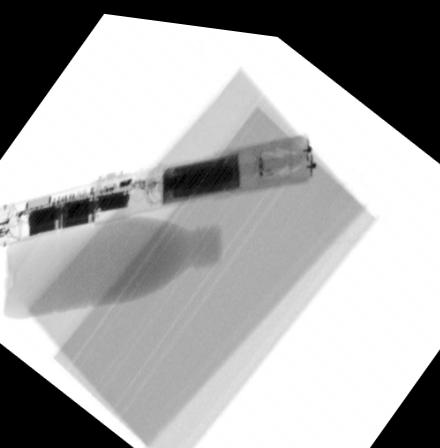Baton: (0, 123, 317, 246)
